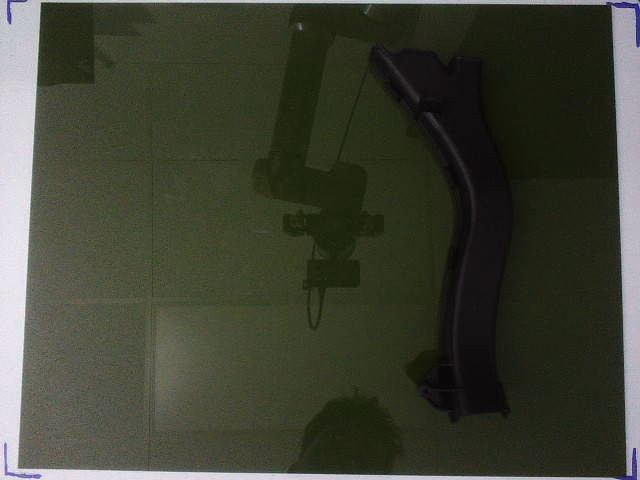887_A-Top: (369, 42, 512, 420)
